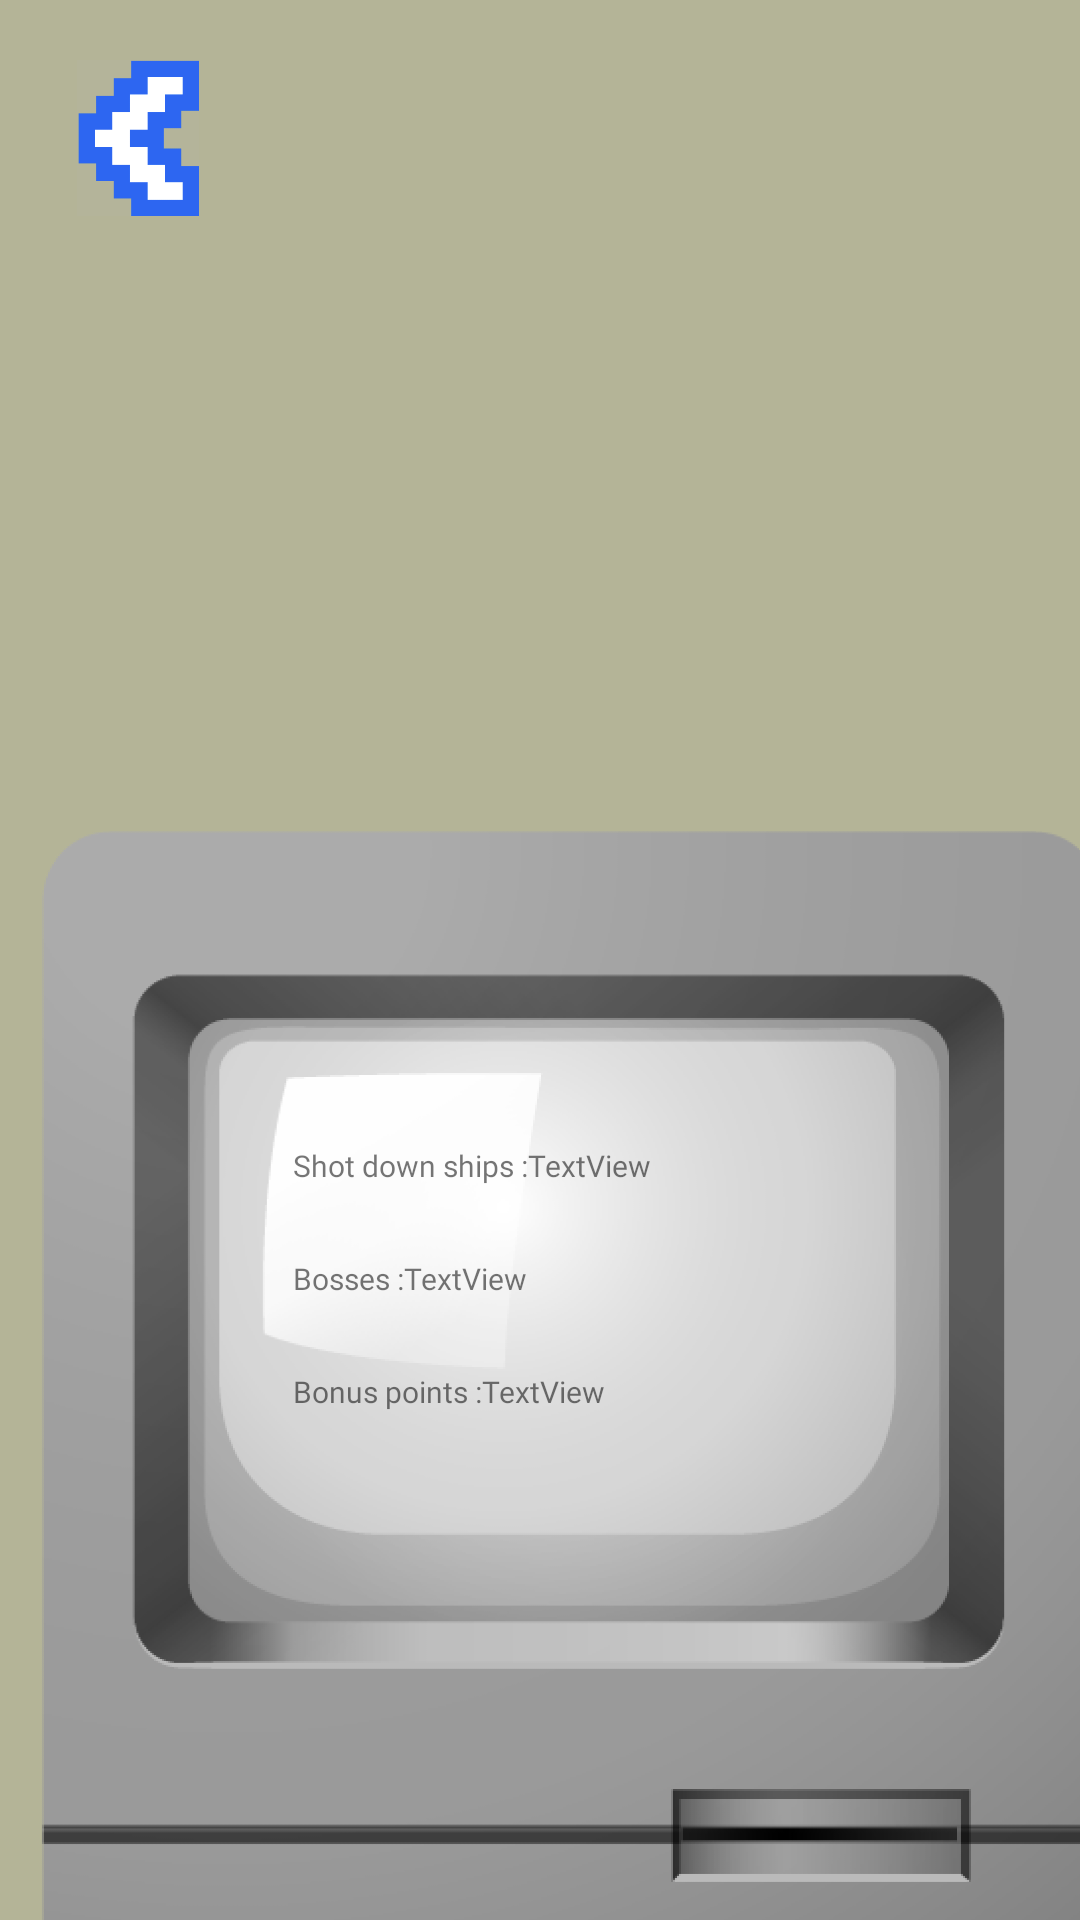

Locate icon controls on the screen. Image size 1080*1920, boxes as {"left": x1, "top": y1, "right": x2, "bottom": y2}.
back: {"left": 78, "top": 61, "right": 199, "bottom": 216}
